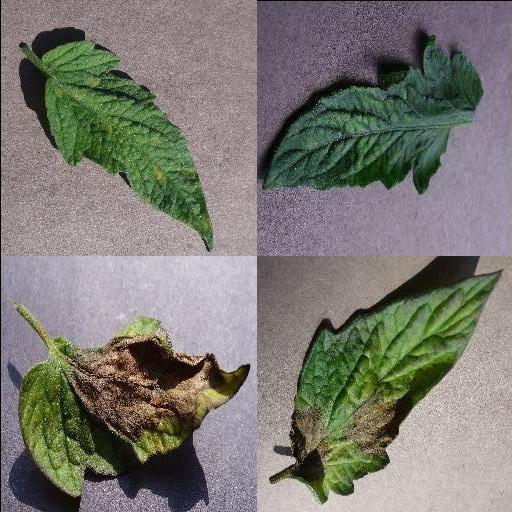Late Blight: (287, 267, 505, 505), (16, 316, 250, 498)
Leaf Mold: (42, 40, 214, 252)
Mosaic Virus: (260, 35, 484, 194)
